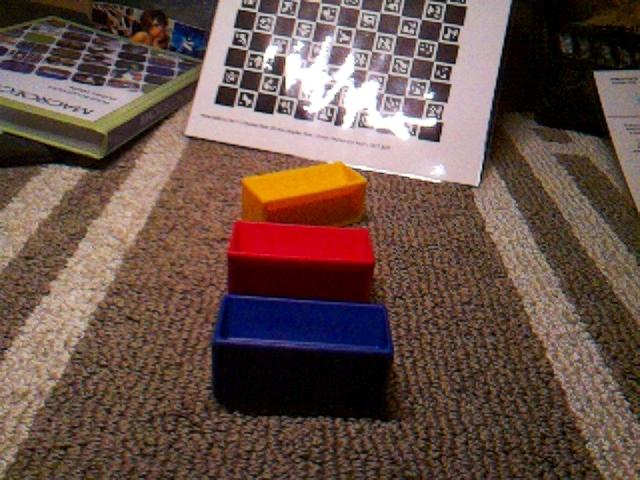blue: (210, 292, 395, 418)
red: (226, 218, 377, 301)
yellow: (240, 160, 369, 226)
